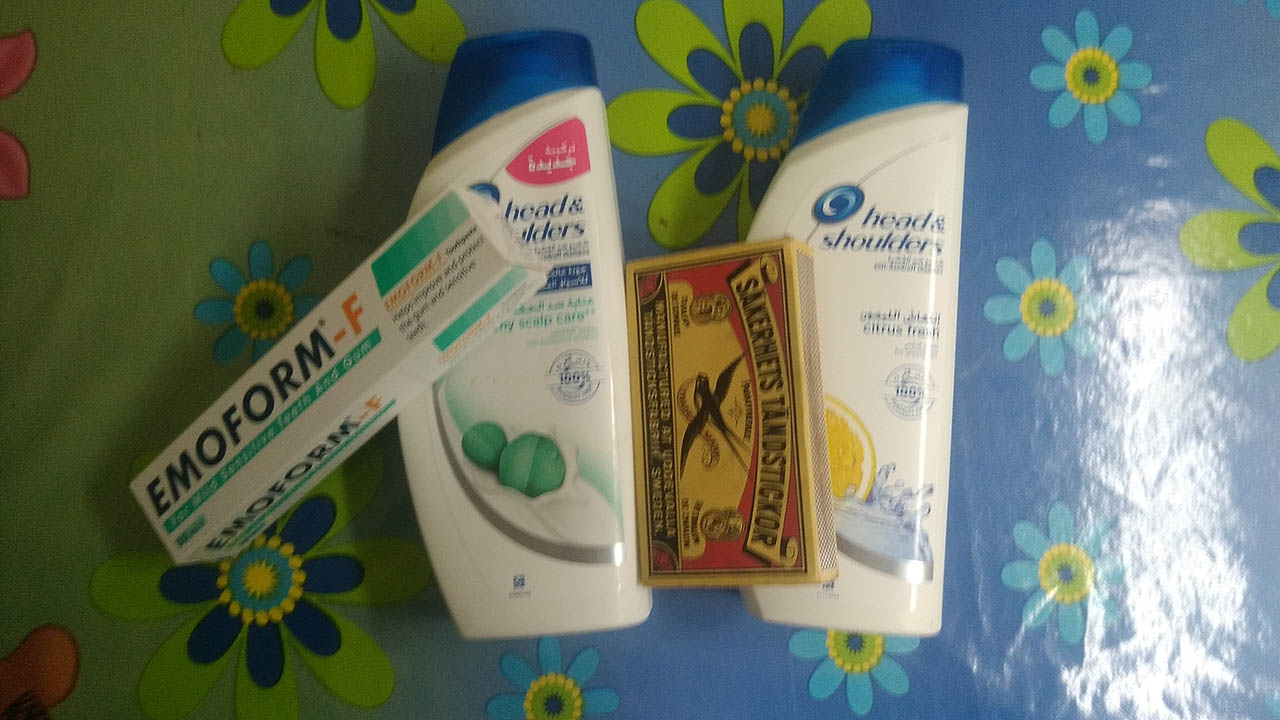Toothpaste-F 1.5$: (144, 180, 477, 574)
match-sticks .90$: (642, 241, 804, 583)
shampoo-Lemon 3.5$: (740, 44, 973, 644)
shampoo-green 4.5$: (411, 33, 619, 654)
